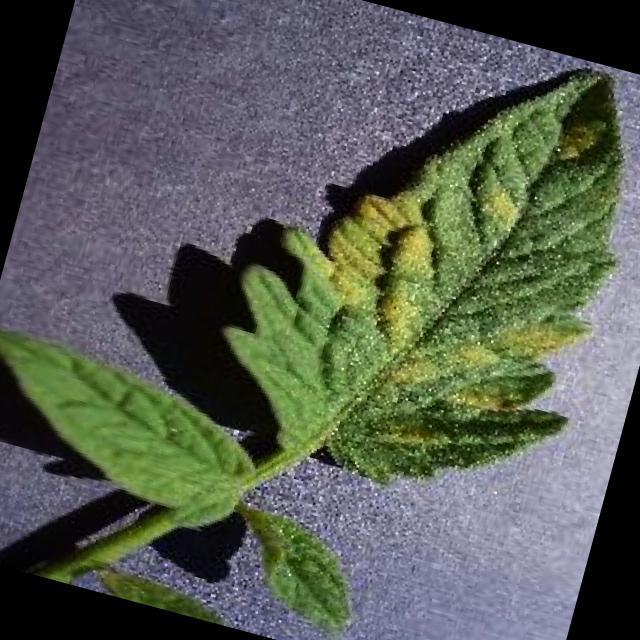Tomato healthy leaf: (0, 319, 274, 531)
Tomato mold leaf: (200, 0, 640, 517)
